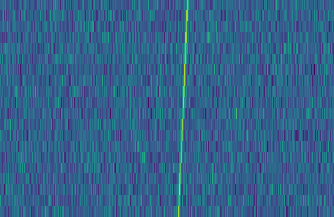signal: (173, 0, 192, 217)
